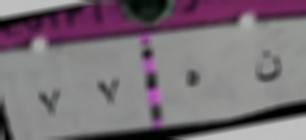7: (89, 71, 132, 114), (31, 83, 68, 121)
haa: (180, 53, 207, 102)
noon: (250, 45, 283, 92)
